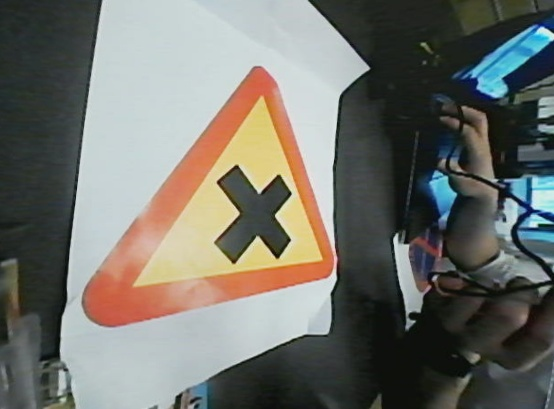junction: (67, 52, 371, 325)
